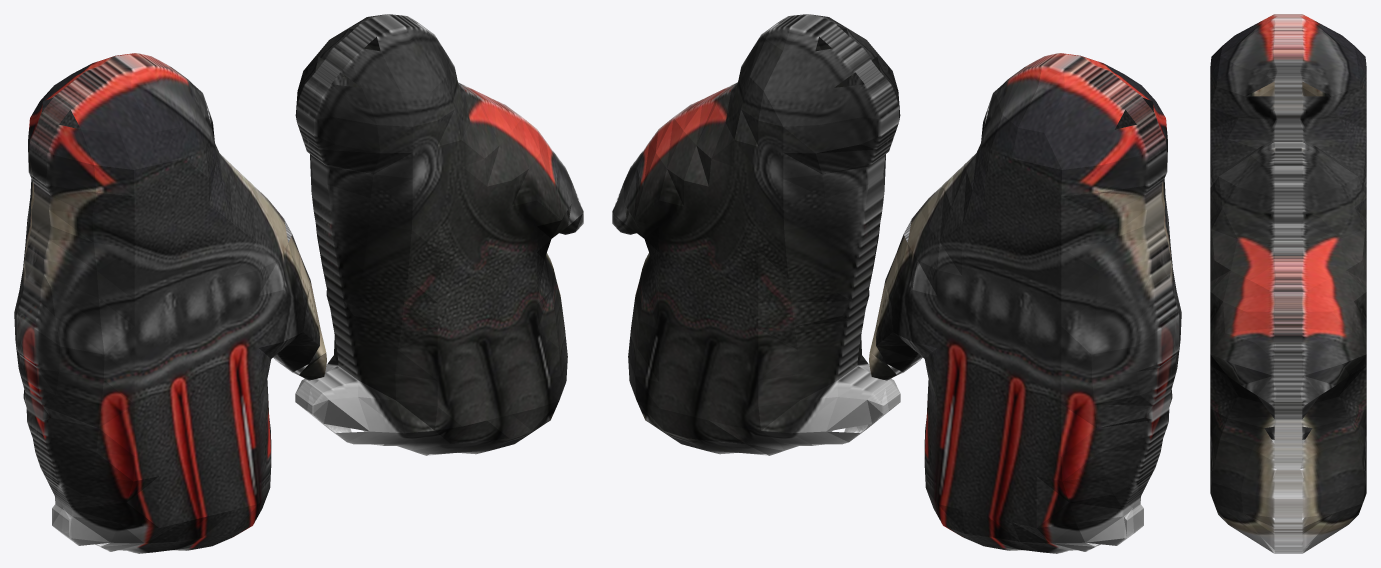
Rendered from arai-vector-summer-glove-080.glb.
3 renders of one model, left to right at view 1: azimuth 30°, elevation 25°; view 2: azimuth 150°, elevation 25°; view 3: azimuth 270°, elevation 25°, orthographic. The views are drawn at different scales.
Parts seen in each view (by area): view 1: world; view 2: world; view 3: world.
Boxes of the visible parts, x1,y1,x2,y2 form: world: [14, 14, 583, 553]; world: [612, 14, 1181, 553]; world: [1210, 14, 1366, 553].
Bounding box in the file's own units: 1 × 0.8614 × 0.3.
1 material, 1 textured.
